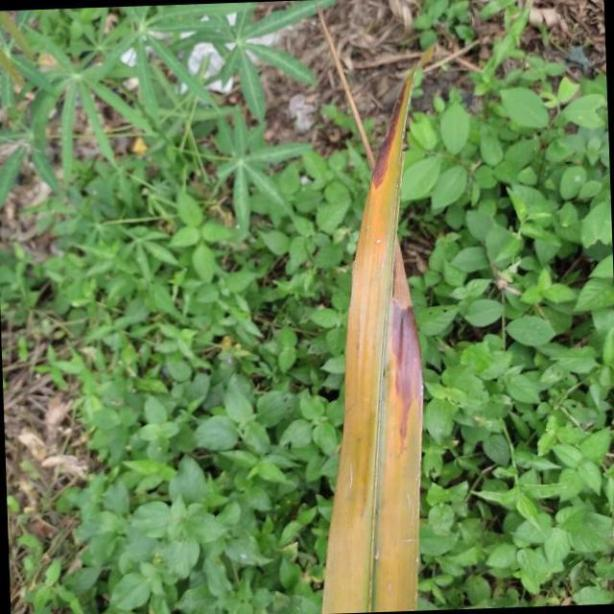Megnesium: (324, 12, 430, 614)
